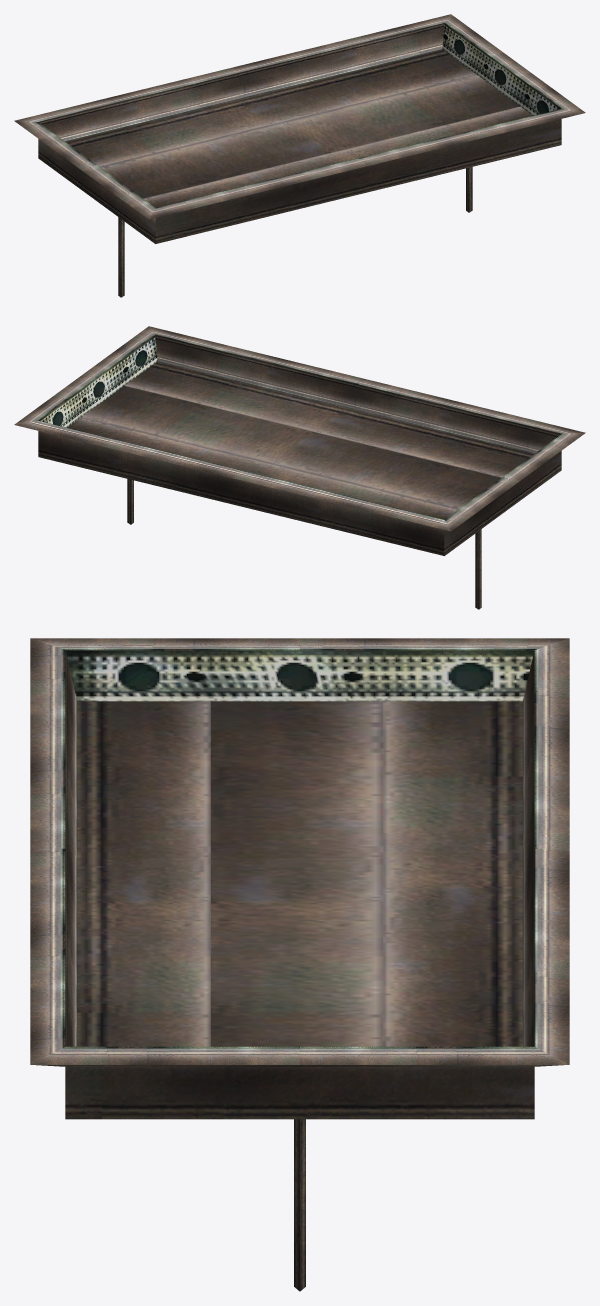
Rendered from hang_slum1.fbx.
3 views of the same model, one above another, from view 1: azimuth 30°, elevation 25°; view 2: azimuth 150°, elevation 25°; view 3: azimuth 270°, elevation 25° (orthographic). The views are drawn at different scales.
Parts seen in each view (by area): view 1: mesh_0; view 2: mesh_0; view 3: mesh_0.
Boxes of the visible parts, x1,y1,x2,y2 form: mesh_0: (14, 14, 585, 297); mesh_0: (14, 326, 585, 609); mesh_0: (30, 638, 569, 1291).
Bounding box in the file's own units: 172 × 51.7 × 92.
Materials: 1 (1 with a texture image).
